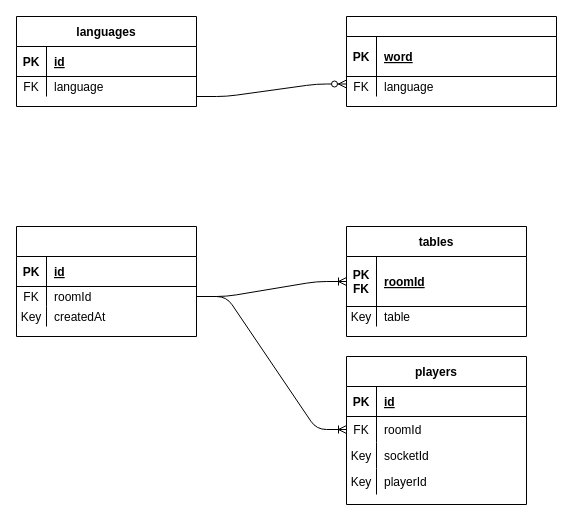
This 573x521 diagram has some shape labels left out. The shapes that lost their labels are listed below. From the top down, each one's box as (x1, y1, x2, y2) in pixels, then its label:
(346, 16, 556, 106): words
(16, 226, 196, 336): roomIds
